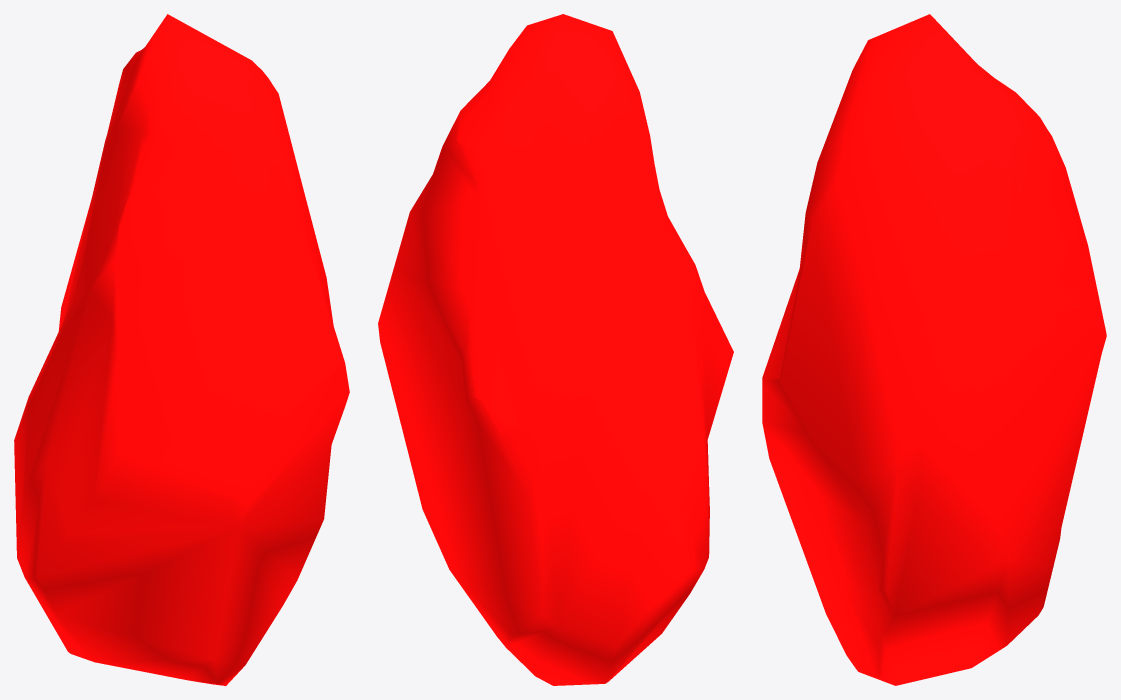
3 views of the same model, side by side, from view 1: azimuth 30°, elevation 25°; view 2: azimuth 150°, elevation 25°; view 3: azimuth 270°, elevation 25° (orthographic).
Parts seen in each view (by area): view 1: Cylinder.001; view 2: Cylinder.001; view 3: Cylinder.001.
Part boxes in pixels (x1,y1,x2,y2): Cylinder.001: [14, 14, 349, 685]; Cylinder.001: [378, 14, 733, 685]; Cylinder.001: [762, 14, 1106, 685].
Bounding box in the file's own units: 2.21 × 4.51 × 2.14.
Materials: 1 (1 with a texture image).
